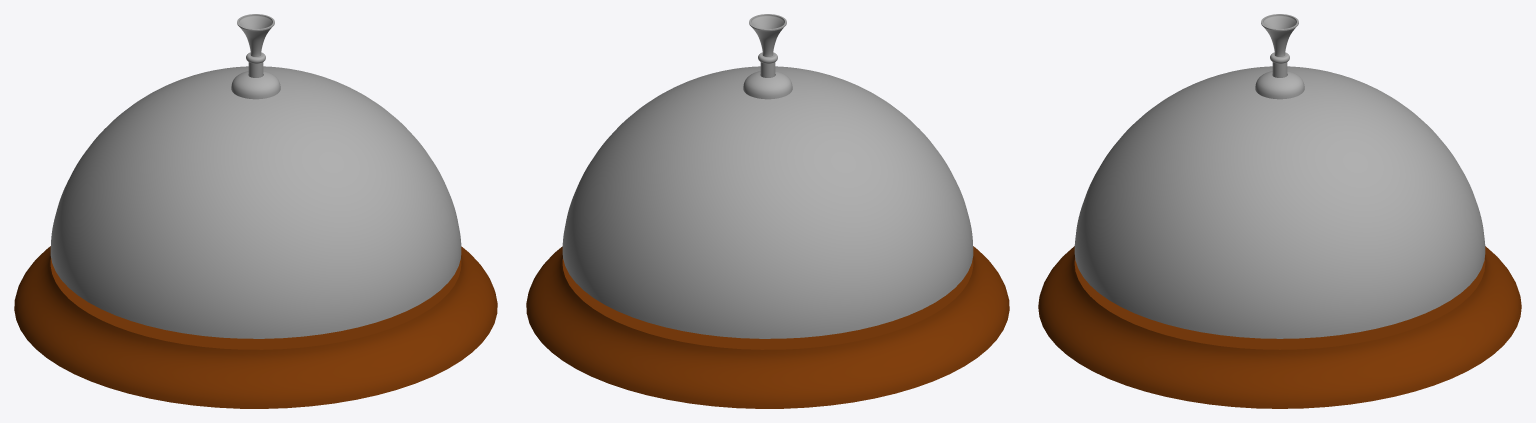
File: bell.fbx
3 views of the same model, side by side, from view 1: azimuth 30°, elevation 25°; view 2: azimuth 150°, elevation 25°; view 3: azimuth 270°, elevation 25° (orthographic).
Visible parts, largest first — view 1: Bell; view 2: Bell; view 3: Bell.
Part boxes in pixels (left/top/right/bottom): Bell: left=14, top=14, right=497, bottom=408; Bell: left=526, top=14, right=1009, bottom=408; Bell: left=1038, top=14, right=1521, bottom=408.
Size of the model in its own units: 8 by 5.2 by 8.
